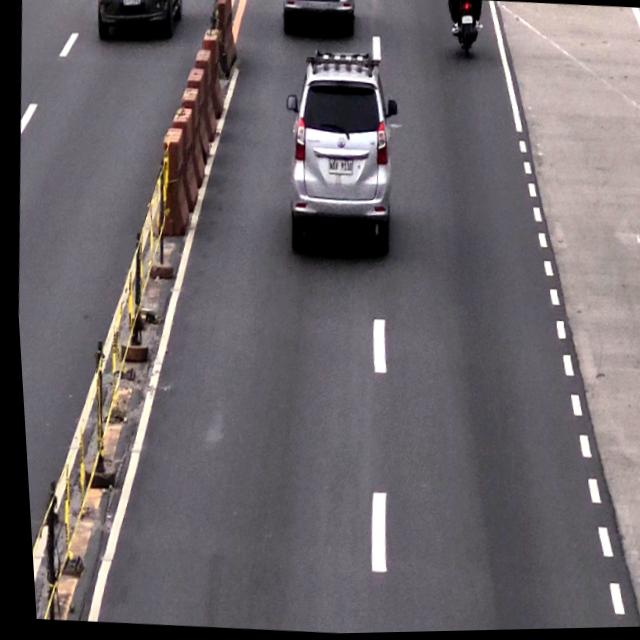Car: (276, 52, 401, 258)
License-Plate: (325, 157, 352, 177)
